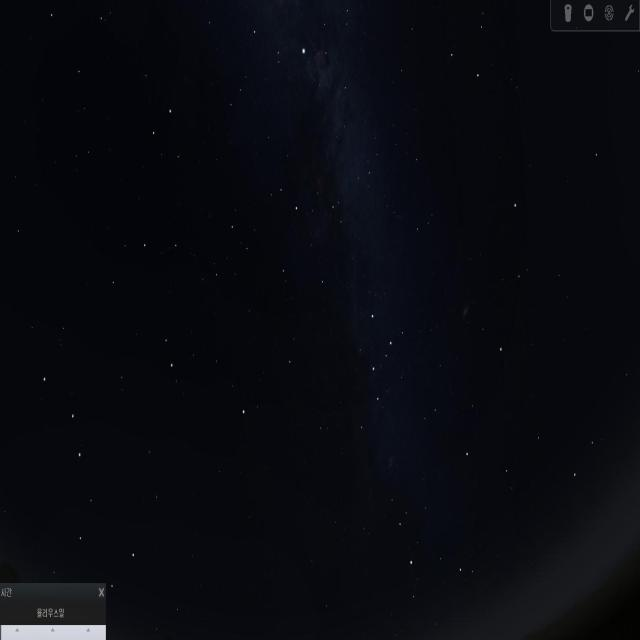cassiopeia: (350, 305, 410, 441)
ursa_major: (32, 356, 139, 598)
